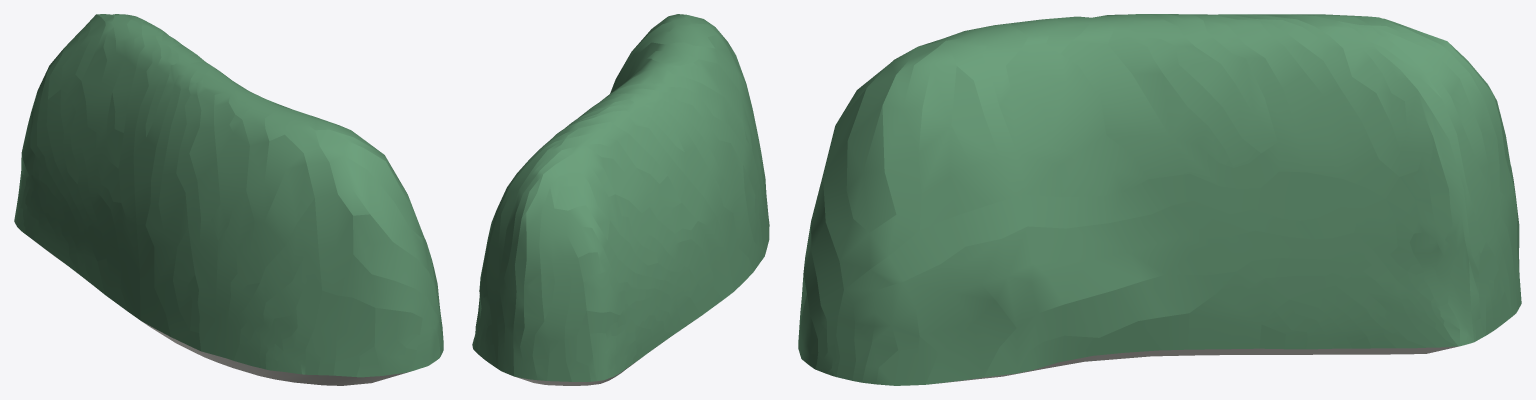
The model's file is island_asian_H.fbx.
3 views of the same model, side by side, from view 1: azimuth 30°, elevation 25°; view 2: azimuth 150°, elevation 25°; view 3: azimuth 270°, elevation 25° (orthographic). The views are drawn at different scales.
Visible parts, largest first — view 1: island_asian_H; view 2: island_asian_H; view 3: island_asian_H.
Boxes of the visible parts, bbox=[...] form: island_asian_H: bbox=[14, 14, 443, 385]; island_asian_H: bbox=[472, 14, 769, 385]; island_asian_H: bbox=[798, 14, 1521, 385].
Bounding box in the file's own units: 2032 × 2122 × 4551.
